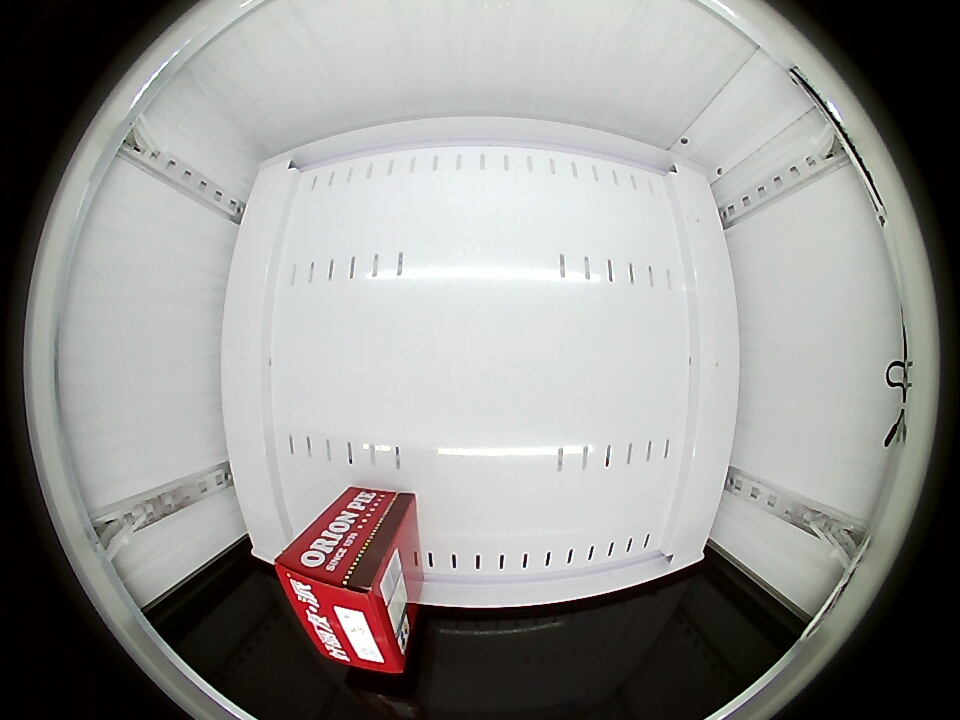haoliyou: (276, 521, 409, 674)
